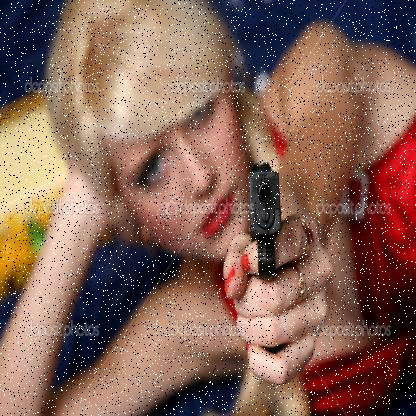pistol: (246, 157, 288, 368)
